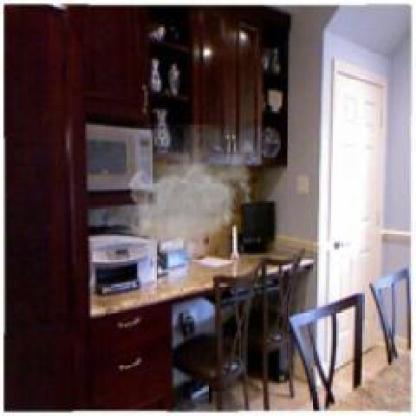Smoke: (127, 125, 260, 255)
